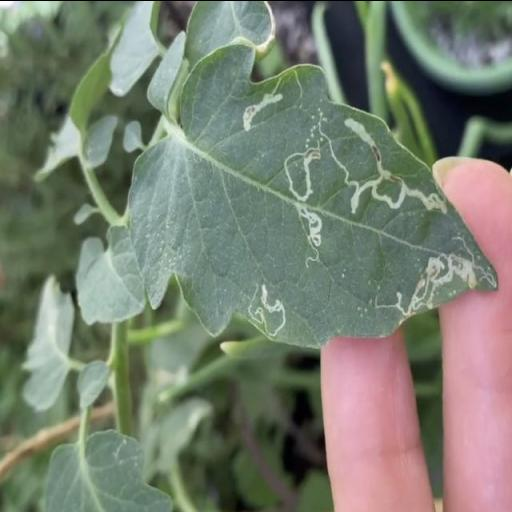disease_tomato: (124, 40, 497, 351)
